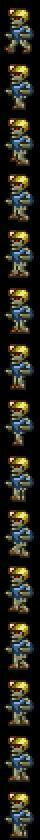zombie: (2, 115, 38, 170), (2, 226, 36, 284), (1, 7, 37, 58), (2, 285, 38, 336), (5, 172, 38, 226), (2, 61, 36, 112)
